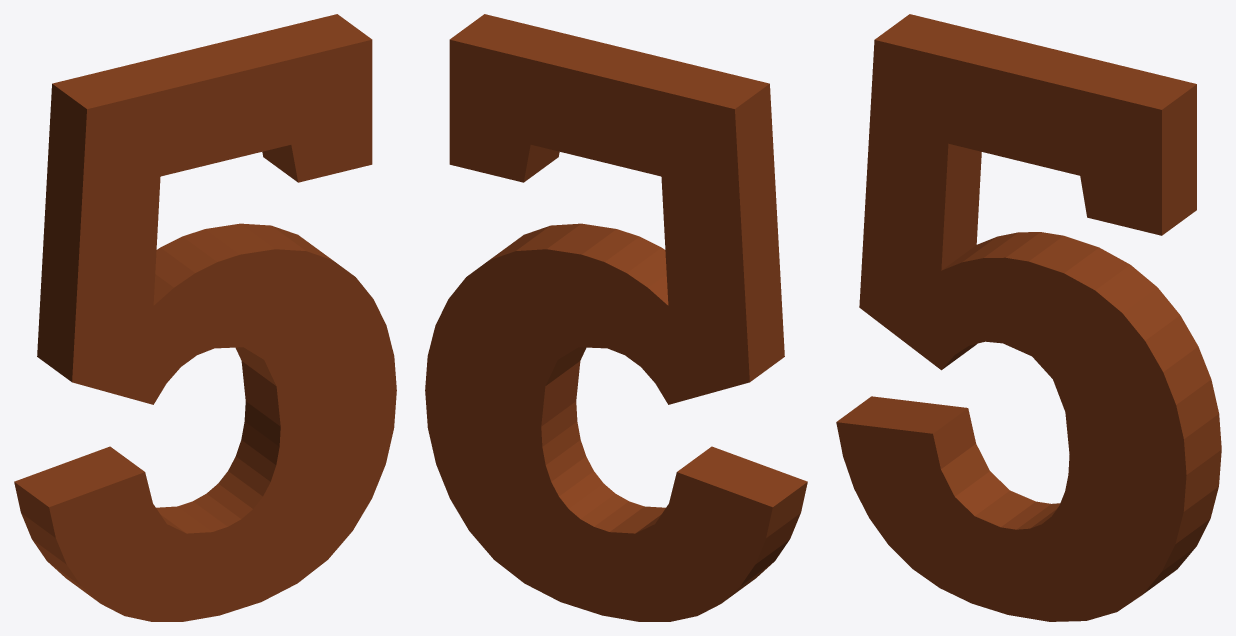
Rendered from num_5.glb.
3 views of the same model, side by side, from view 1: azimuth 30°, elevation 25°; view 2: azimuth 150°, elevation 25°; view 3: azimuth 330°, elevation 25° (orthographic).
Visible parts, largest first — view 1: num_5; view 2: num_5; view 3: num_5.
Part boxes in pixels (<box>): num_5: <box>14,14,396,621</box>; num_5: <box>425,14,807,621</box>; num_5: <box>836,14,1221,621</box>.
Bounding box in the file's own units: 1.15 × 1.7 × 0.2.
